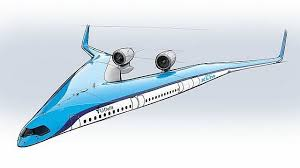maybay_dansu: (18, 27, 294, 146)
